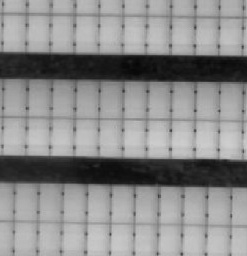solar: (24, 11, 54, 53), (47, 11, 77, 53), (73, 11, 103, 53), (96, 12, 126, 54), (120, 14, 150, 56), (143, 14, 173, 56), (168, 14, 198, 56), (192, 14, 222, 56), (217, 14, 247, 56), (50, 77, 80, 119), (72, 78, 102, 120), (95, 79, 125, 121), (121, 79, 151, 121), (144, 79, 174, 121), (170, 80, 200, 122), (192, 81, 222, 123), (216, 81, 246, 123), (217, 118, 247, 160), (192, 118, 222, 160), (169, 117, 199, 159), (144, 117, 174, 159), (120, 117, 150, 159), (96, 117, 126, 159), (72, 117, 102, 159), (48, 117, 78, 159), (23, 117, 53, 159), (11, 181, 41, 223), (37, 181, 67, 223), (60, 182, 90, 224), (84, 183, 114, 225), (107, 184, 137, 226), (132, 184, 162, 226), (157, 184, 187, 226), (180, 185, 210, 227), (204, 186, 234, 228), (1, 11, 30, 53), (25, 77, 54, 119), (1, 117, 30, 159), (1, 76, 29, 118)
